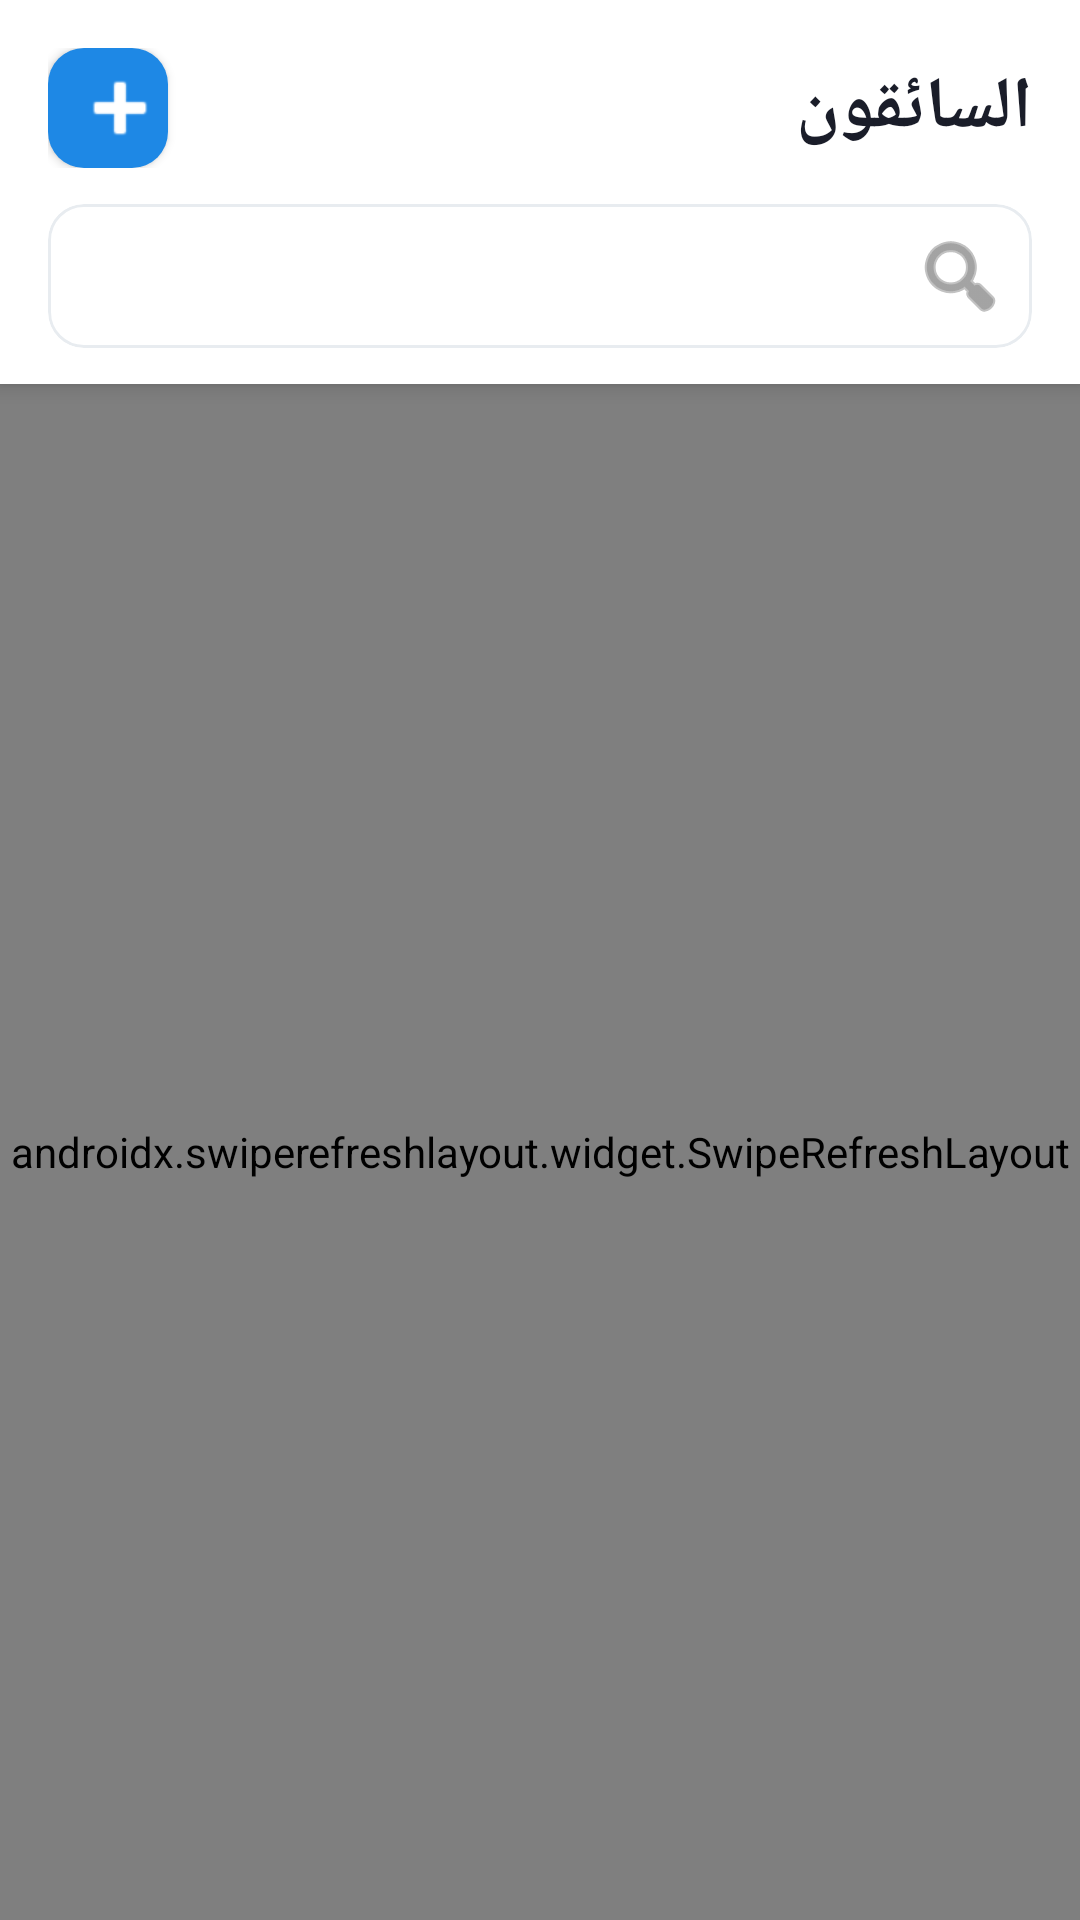

Icons on this 1080*1920 Android screen, each with the point to tap as (x=x, y=y):
add: (x=108, y=108)
